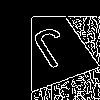J: (25, 25, 84, 79)
